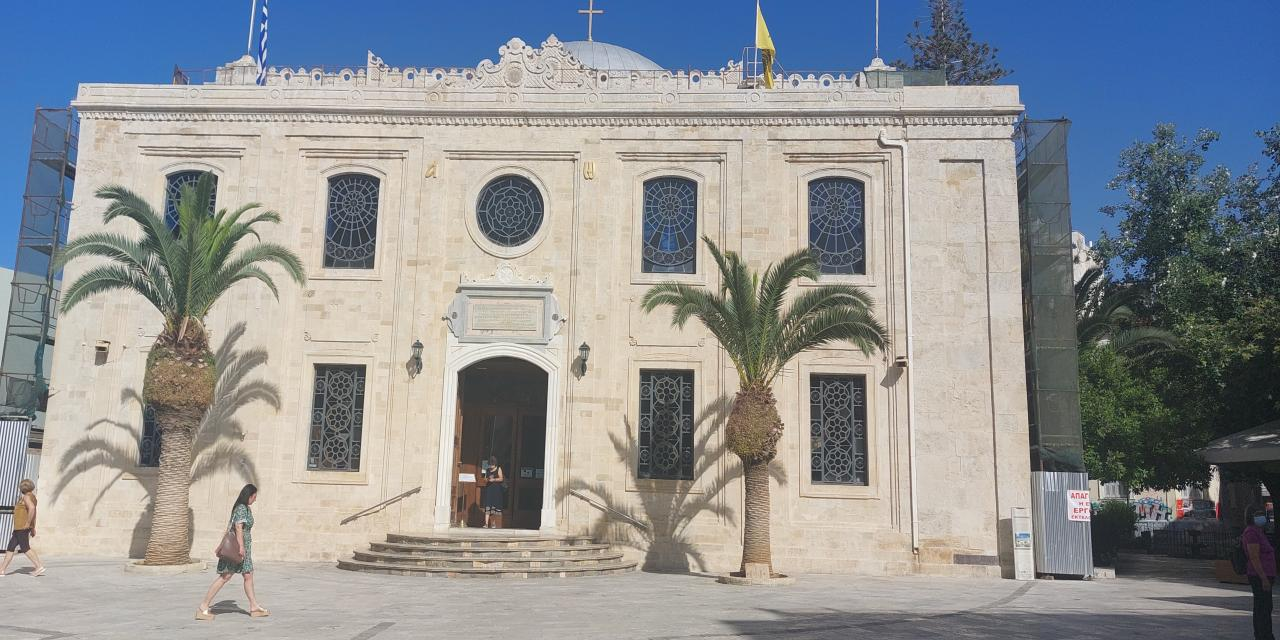Agios Titos: (61, 6, 1024, 582)
